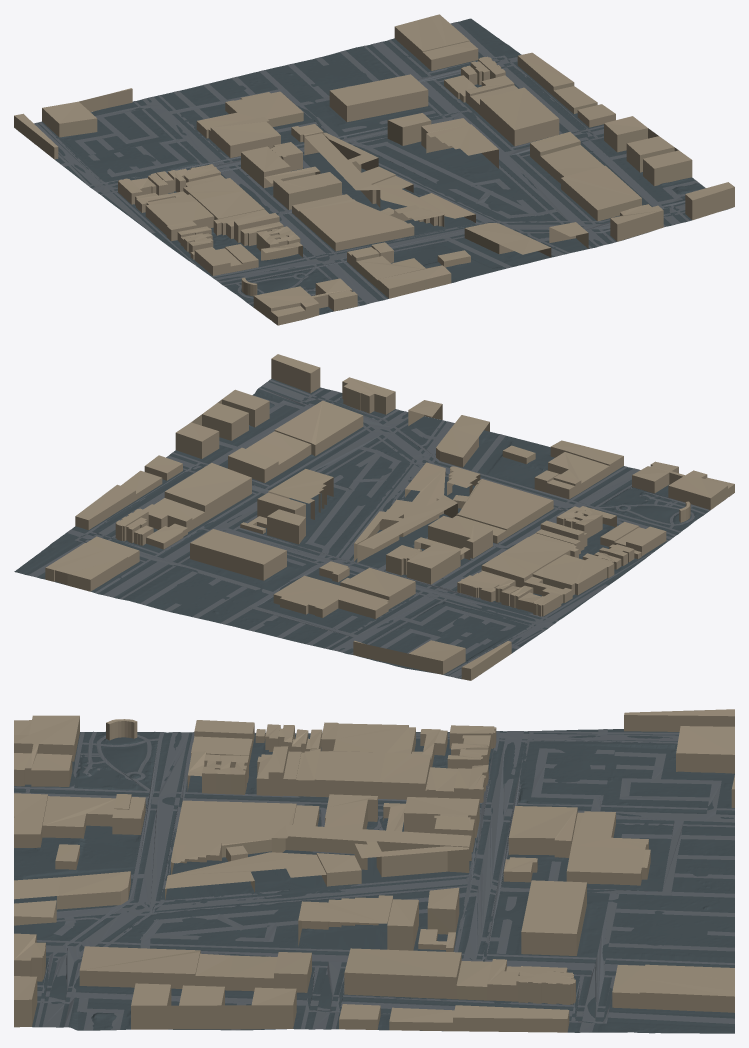
Rendered from epsg26910-1436-10884.lod0.glb.
3 renders of one model, top to bottom at view 1: azimuth 30°, elevation 25°; view 2: azimuth 150°, elevation 25°; view 3: azimuth 270°, elevation 25°, orthographic. The views are drawn at different scales.
Visible parts, largest first — view 1: epsg26910-1436-10884-lod0; view 2: epsg26910-1436-10884-lod0; view 3: epsg26910-1436-10884-lod0.
Boxes of the visible parts, bbox=[...] form: epsg26910-1436-10884-lod0: bbox=[14, 14, 734, 325]; epsg26910-1436-10884-lod0: bbox=[14, 354, 734, 680]; epsg26910-1436-10884-lod0: bbox=[14, 709, 734, 1033].
Size of the model in its own units: 384 by 22.87 by 384.
